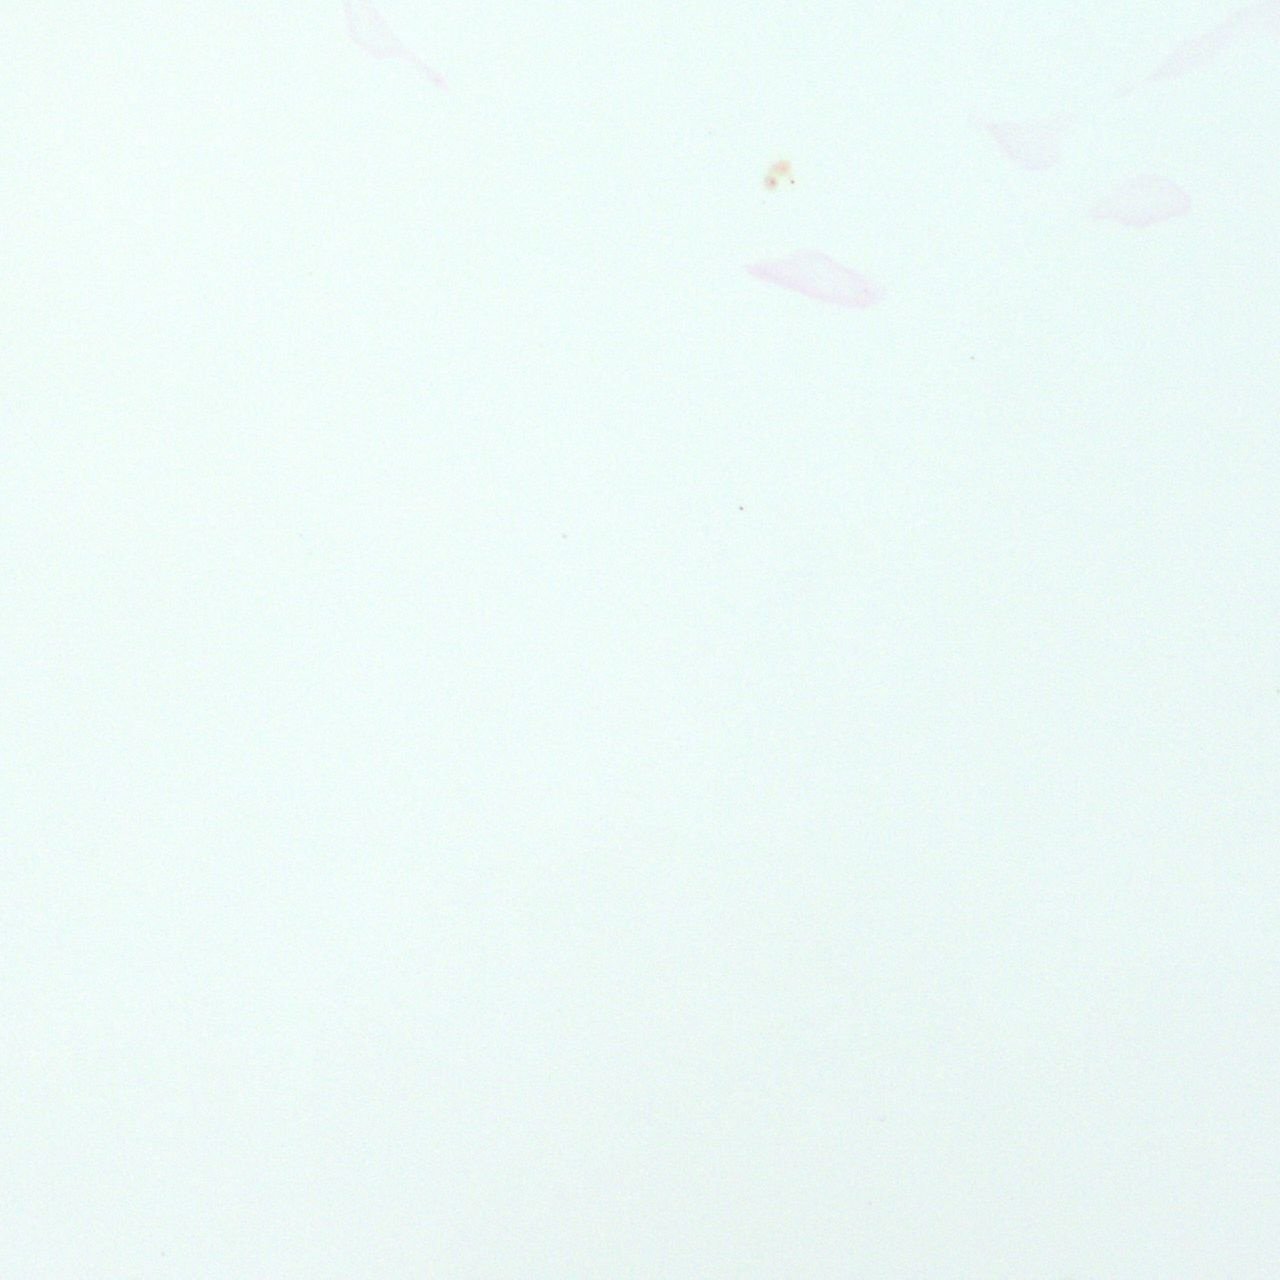dust: (757, 154, 803, 200)
